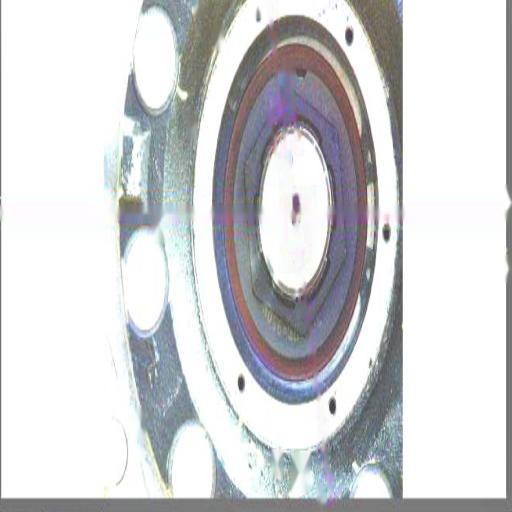center: (290, 188, 302, 222)
notch: (292, 62, 309, 91)
